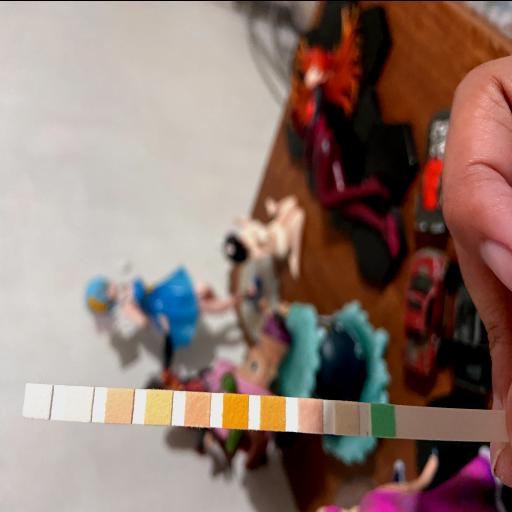Bilirubin: (338, 404, 358, 432)
Blood: (226, 396, 246, 426)
Glucose: (373, 406, 393, 434)
Ketone: (300, 401, 322, 430)
Leukocytes: (28, 385, 48, 414)
Nitrite: (68, 388, 89, 416)
Protein: (148, 392, 170, 421)
SpGravity: (263, 398, 283, 428)
Urobilinogen: (109, 390, 130, 420)
pH: (186, 394, 208, 424)
strip: (23, 383, 505, 441)
